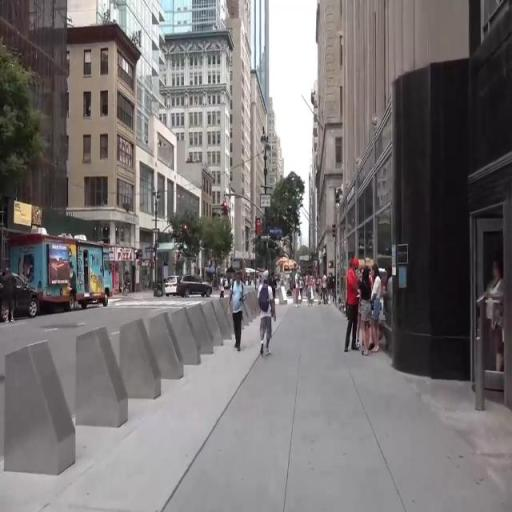person: (258, 269, 276, 355), (235, 270, 250, 360), (372, 264, 386, 353), (362, 269, 375, 361), (347, 258, 356, 354), (4, 269, 19, 324), (296, 268, 307, 317), (323, 271, 332, 317), (220, 272, 227, 303)
